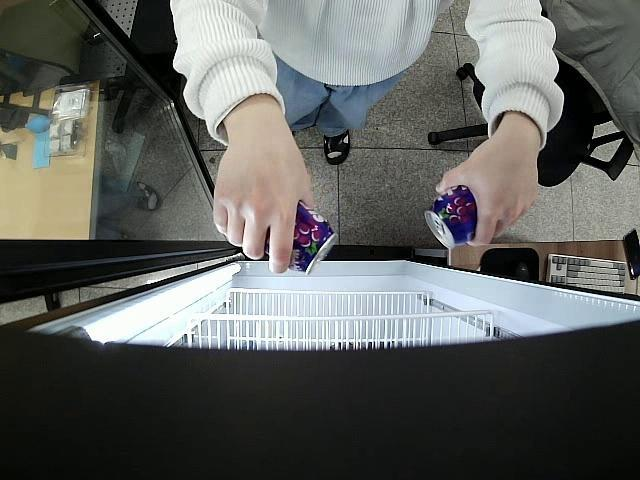14_welchsGrape: (267, 200, 338, 278), (424, 183, 478, 248)
